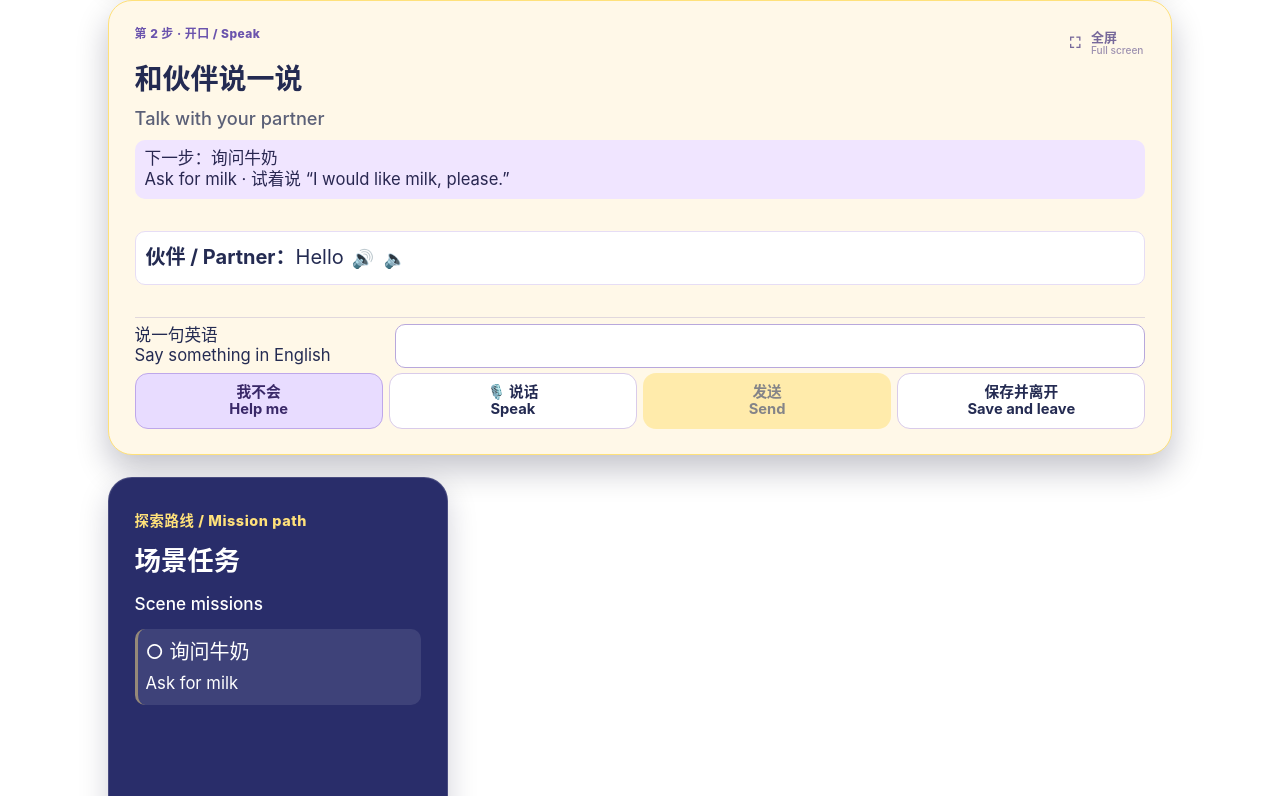
Scenario: lets the partner suggest a line without sending a child answer
The width and height of the screenshot is (1280, 796).
(page scrolled)
Click the button with class "help".
click(259, 400)  # box [135,372,383,428]
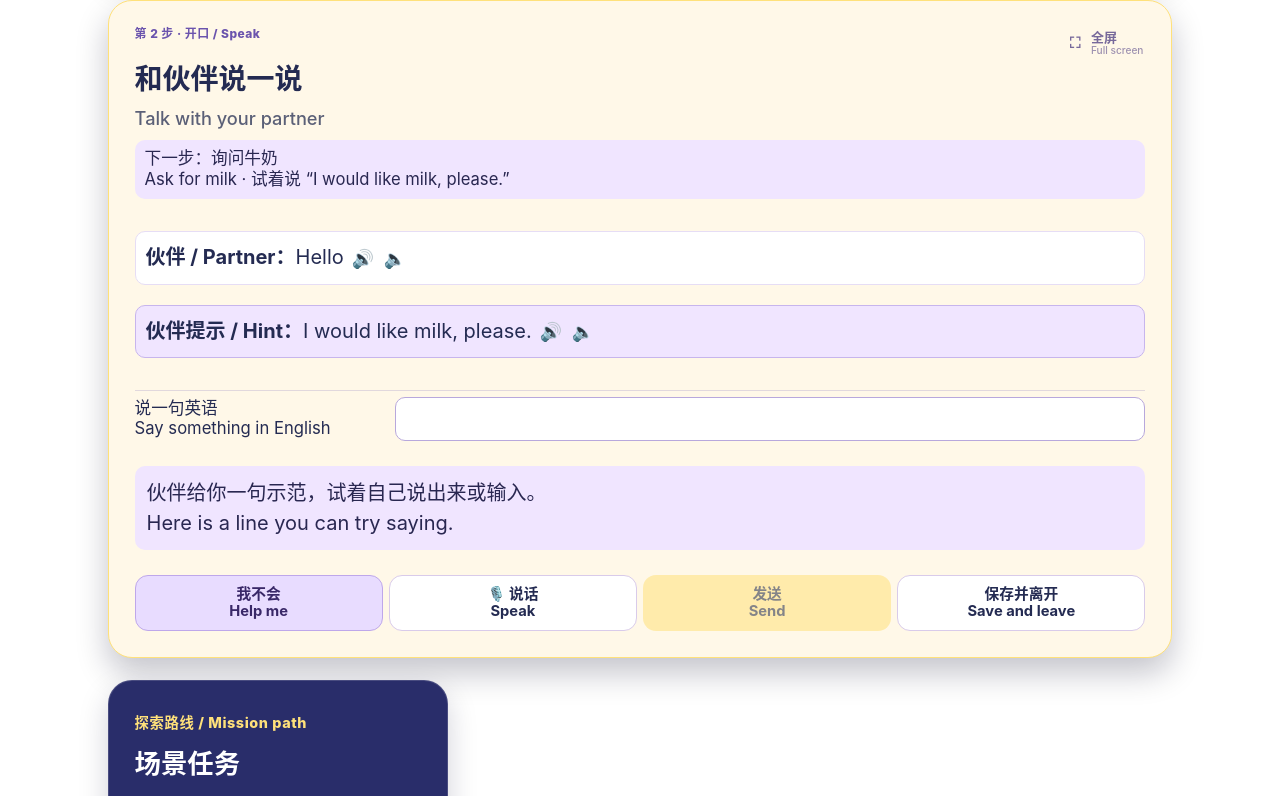
Expected: the field with id "beta-input" is empty, [395,397,1145,441]
Expected: the text "伙伴提示 / Hint" is shown, [146,318,303,342]
